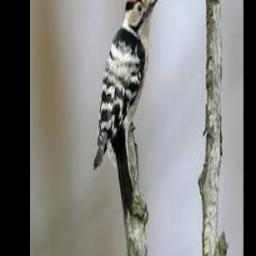Woodpecker: (93, 0, 159, 215)
